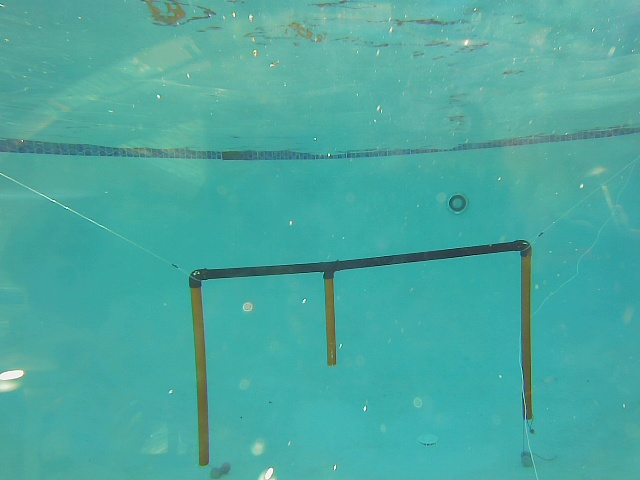Gate: (188, 284, 212, 465), (518, 253, 533, 423), (322, 275, 339, 370)
